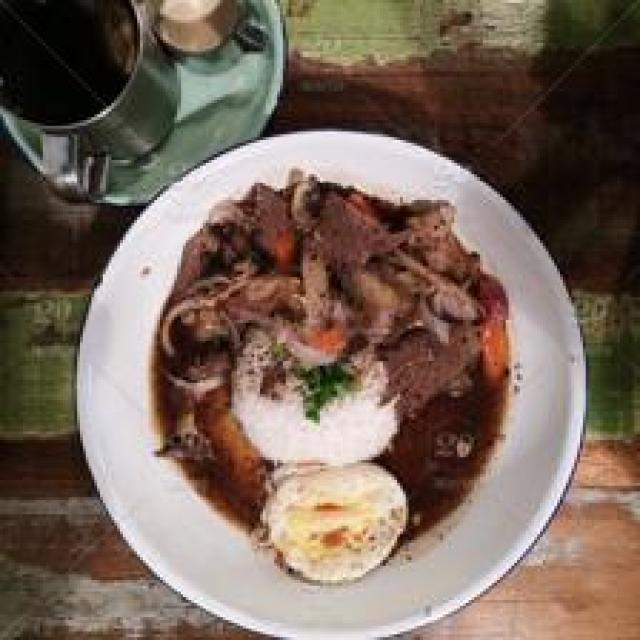Wet Waste: (237, 330, 419, 470)
